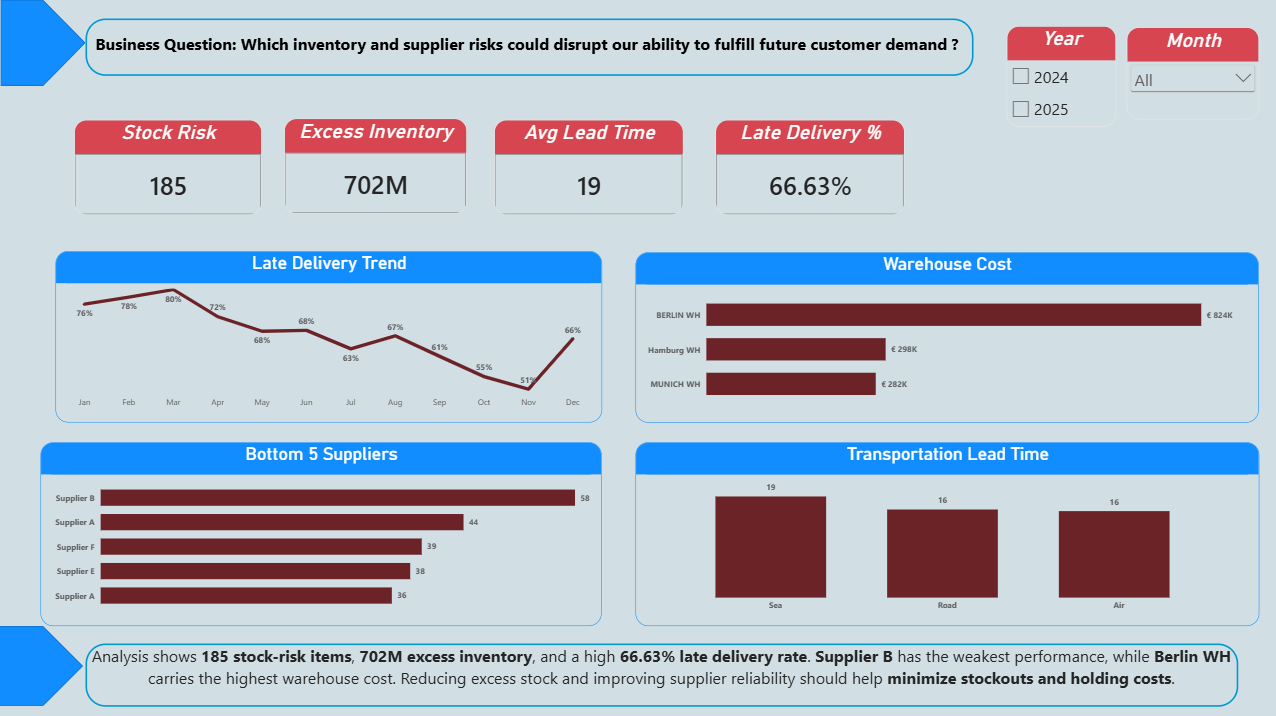

The page's visual inventory and layout, read from the dashboard file:
{"tool":"powerbi","page":{"name":"Inventory & Supplier Risk Management","canvas":[1920,1080],"ordinal":1},"visuals":[{"type":"shape","box":[10.3,0,127.6,140],"z":0},{"type":"textbox","box":[138.5,34.1,1325.8,85.3],"z":1000},{"type":"cardVisual","title":"Stock Risk","fields":{"Data":["All Measures.Stock Risk"]},"box":[121.5,185.4,280,142.5],"z":2000},{"type":"textbox","box":[137.6,966.8,1720.6,94.2],"z":3000},{"type":"shape","box":[12.5,940,127.6,140],"z":4000},{"type":"cardVisual","title":"Excess Inventory","fields":{"Data":["All Measures.Exess Inventory Value"]},"box":[434.8,183.3,272.5,142.5],"z":7000},{"type":"cardVisual","title":"Avg Lead Time","fields":{"Data":["All Measures.Avg Lead Time"]},"box":[748.1,185.4,282.5,142.5],"z":8000},{"type":"cardVisual","title":"Late Delivery %","fields":{"Data":["All Measures.Late Delivery %"]},"box":[1078.5,185.4,282.5,142.5],"z":8001},{"type":"lineChart","title":"Late Delivery Trend","fields":{"Category":["Date.Month"],"Y":["All Measures.Late Delivery %"]},"box":[94,380,816,256],"z":8002},{"type":"barChart","title":"Warehouse Cost","fields":{"Category":["SupplyChain_Data.Warehouse"],"Y":["All Measures.Total Cost"]},"box":[960,382,930,254],"z":8003},{"type":"barChart","title":"Bottom 5 Suppliers","fields":{"Category":["SupplyChain_Data.SupplierName"],"Y":["All Measures.Supplier Perforamnce Score"]},"box":[70.9,666.1,837.8,274.3],"z":8004},{"type":"columnChart","title":"Transportation Lead Time","fields":{"Category":["SupplyChain_Data.TransportationMode"],"Y":["All Measures.Avg Lead Time"]},"box":[959.1,666.1,931.1,274.3],"z":8005},{"type":"slicer","title":"Year","fields":{"Values":["Date.Year"]},"box":[1513.3,44.8,163,150],"z":8006},{"type":"slicer","title":"Month","fields":{"Values":["Date.Month"]},"box":[1692.4,46.6,197.6,137.9],"z":8007}]}

Visuals, with their boxes in screenshot pixels (x1, y1, x2, y2), scaled from the page's 1920x1080 canvas onto the 1276x716 screenshot:
shape: select_region(7, 0, 92, 93)
textbox: select_region(92, 23, 973, 79)
"Stock Risk" cardVisual: select_region(81, 123, 267, 217)
textbox: select_region(91, 641, 1235, 703)
shape: select_region(8, 623, 93, 715)
"Excess Inventory" cardVisual: select_region(289, 122, 470, 216)
"Avg Lead Time" cardVisual: select_region(497, 123, 685, 217)
"Late Delivery %" cardVisual: select_region(717, 123, 904, 217)
"Late Delivery Trend" lineChart: select_region(62, 252, 605, 422)
"Warehouse Cost" barChart: select_region(638, 253, 1256, 422)
"Bottom 5 Suppliers" barChart: select_region(47, 442, 604, 623)
"Transportation Lead Time" columnChart: select_region(637, 442, 1256, 623)
"Year" slicer: select_region(1006, 30, 1114, 129)
"Month" slicer: select_region(1125, 31, 1256, 122)
